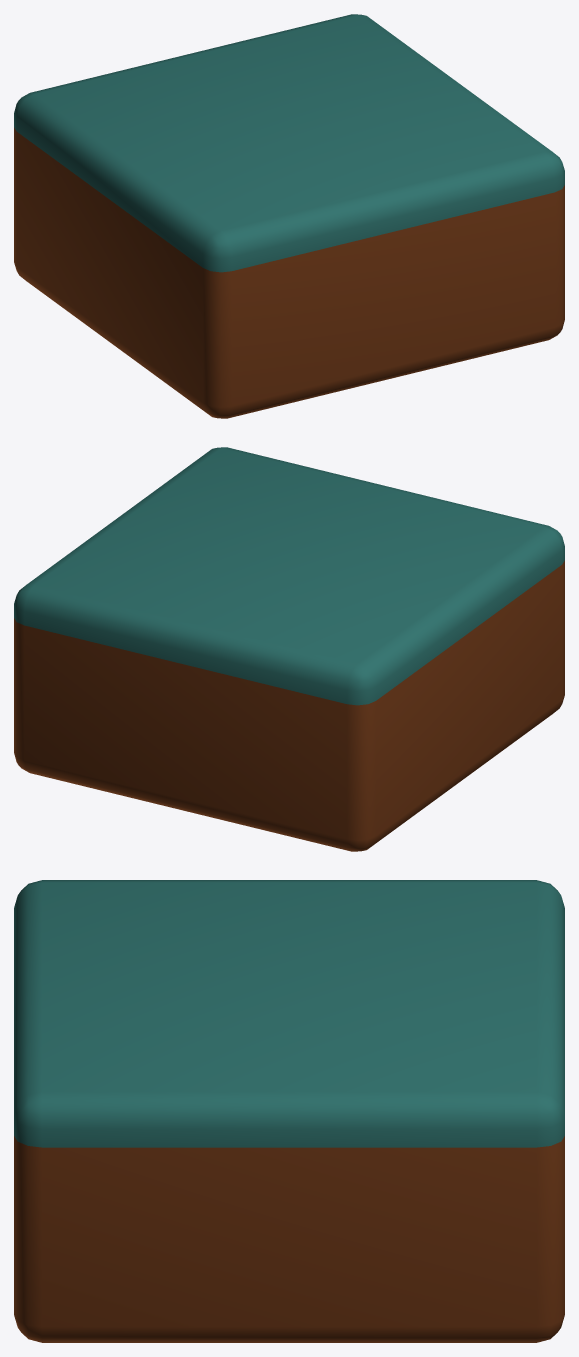
File: Tiles_Blue.fbx
3 renders of one model, top to bottom at view 1: azimuth 30°, elevation 25°; view 2: azimuth 150°, elevation 25°; view 3: azimuth 270°, elevation 25°, orthographic. The views are drawn at different scales.
Visible parts, largest first — view 1: Cube; view 2: Cube; view 3: Cube.
Boxes of the visible parts, box(x1,y1,x2,y2) form: Cube: box(14, 14, 564, 418); Cube: box(14, 447, 564, 851); Cube: box(14, 880, 564, 1342).
Bounding box in the file's own units: 2 × 0.9953 × 2.
